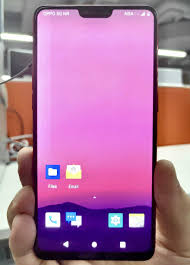oppo: (32, 1, 161, 262)
